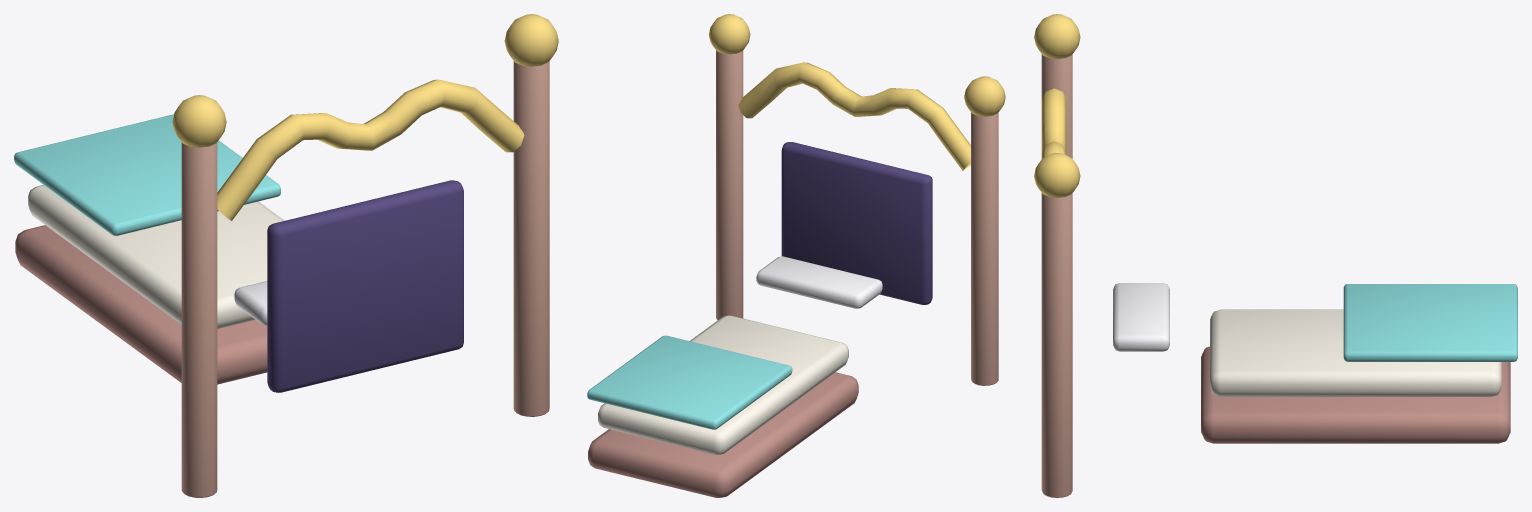
Rendered from royal_bed.glb.
3 renders of one model, left to right at view 1: azimuth 30°, elevation 25°; view 2: azimuth 150°, elevation 25°; view 3: azimuth 270°, elevation 25°, orthographic. The views are drawn at different scales.
Visible parts, largest first — view 1: HeadboardInk, Blanket, Mattress, HeadPost_-1.0, HeadPost_1.0, BedFrame, HeadboardCrown, PostPearl_-1.0, PostPearl_1.0, Pillow; view 2: HeadboardInk, BedFrame, Blanket, Mattress, HeadPost_-1.0, HeadPost_1.0, HeadboardCrown, Pillow, PostPearl_-1.0, PostPearl_1.0; view 3: Mattress, BedFrame, Blanket, HeadPost_1.0, Pillow, PostPearl_-1.0, PostPearl_1.0, HeadboardCrown, HeadPost_-1.0.
Part boxes in pixels (x1,y1,x2,y2): HeadboardInk: (267, 180, 463, 392); Blanket: (14, 114, 280, 235); Mattress: (28, 185, 284, 328); HeadPost_-1.0: (181, 142, 217, 497); HeadPost_1.0: (513, 61, 549, 416); BedFrame: (15, 225, 267, 384); HeadboardCrown: (217, 79, 524, 220); PostPearl_-1.0: (172, 95, 226, 147); PostPearl_1.0: (504, 14, 558, 66); Pillow: (234, 281, 267, 325); HeadboardInk: (781, 142, 932, 304); BedFrame: (588, 372, 858, 497); Blanket: (587, 335, 792, 429); Mattress: (598, 315, 848, 454); HeadPost_-1.0: (971, 112, 998, 385); HeadPost_1.0: (716, 50, 743, 319); HeadboardCrown: (738, 62, 970, 170); Pillow: (756, 256, 882, 308); PostPearl_-1.0: (964, 76, 1005, 116); PostPearl_1.0: (709, 14, 750, 54); Mattress: (1210, 309, 1501, 396); BedFrame: (1201, 346, 1510, 443); Blanket: (1343, 284, 1517, 361); HeadPost_1.0: (1041, 193, 1072, 497); Pillow: (1113, 283, 1169, 351); PostPearl_-1.0: (1034, 14, 1080, 59); PostPearl_1.0: (1034, 153, 1080, 197); HeadboardCrown: (1041, 88, 1066, 158); HeadPost_-1.0: (1041, 54, 1072, 158).
Bounding box in the file's own units: 7.26 × 7.2 × 9.37.
